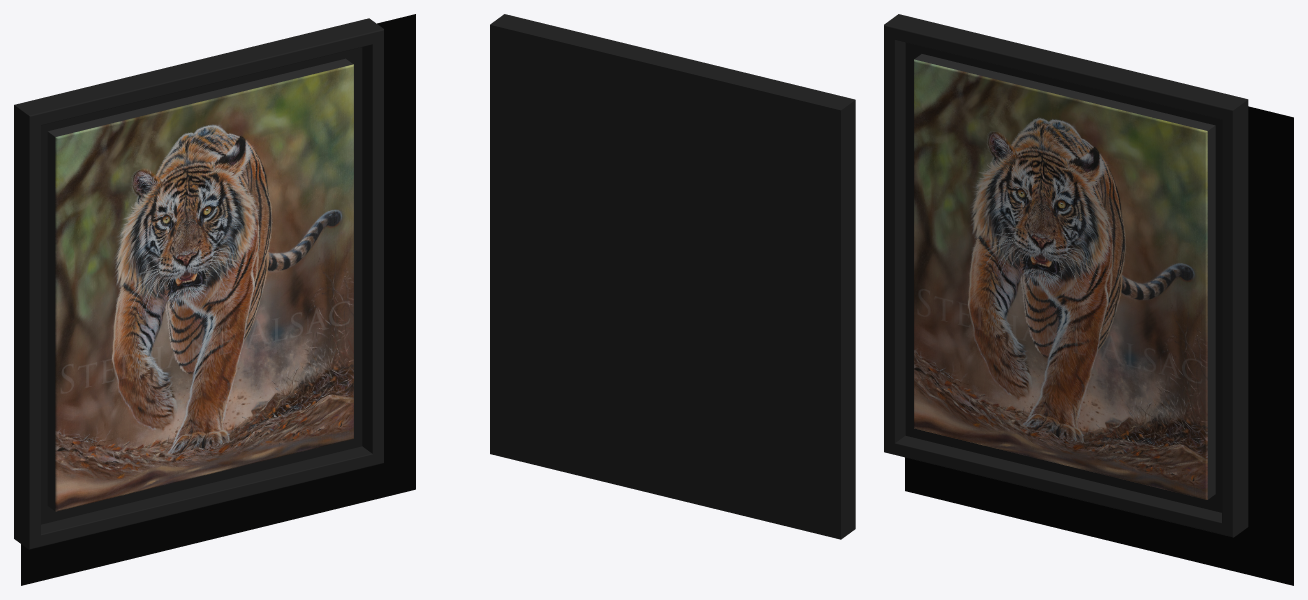
Rendered from tableau-peinture-tigre-classique-c2569929.glb.
3 renders of one model, left to right at view 1: azimuth 30°, elevation 25°; view 2: azimuth 150°, elevation 25°; view 3: azimuth 330°, elevation 25°, orthographic.
Visible parts, largest first — view 1: Painting; view 2: Painting; view 3: Painting.
Boxes of the visible parts, x1,y1,x2,y2 form: Painting: (14,14,415,585); Painting: (490,14,855,539); Painting: (884,14,1293,585).
Bounding box in the file's own units: 0.606 × 0.696 × 0.04.
Materials: 5 (3 with a texture image).
